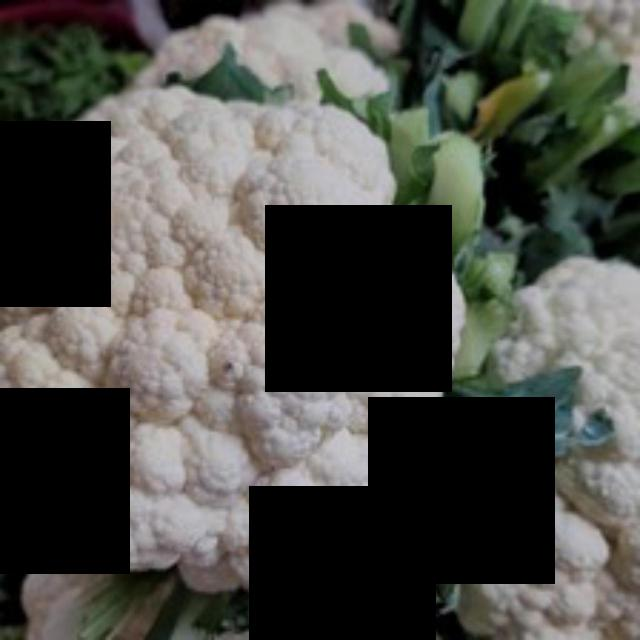cauliflower: (2, 71, 480, 605)
